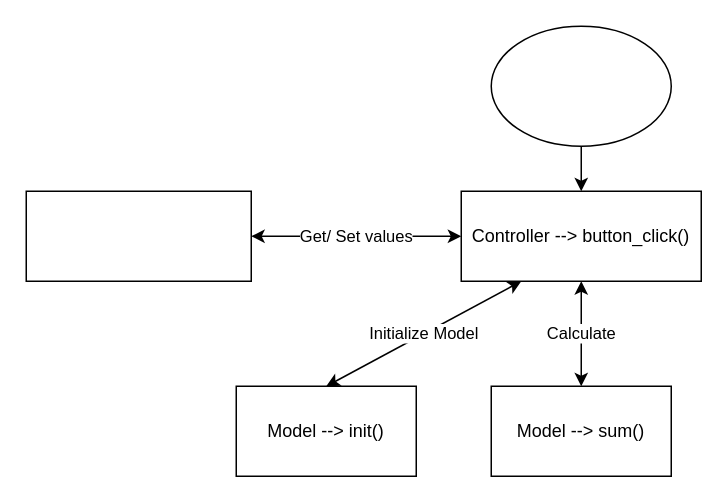
Image size: 728x503. Some labels were removed from this diagram. The centre of each missing label's shape, as x and y in pixels:
Start (main): point (580, 85)
View --> get_value()...: point (138, 235)
